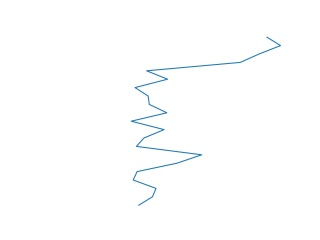crevasseRiverChannelBar: (127, 34, 283, 209)
